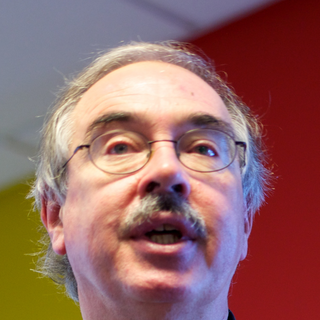eye: (97, 138, 143, 160), (183, 136, 217, 162)
